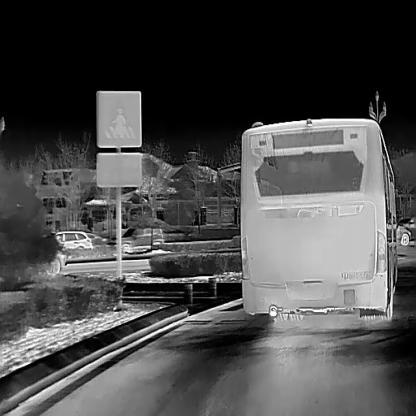car: (239, 115, 398, 322), (116, 223, 164, 252), (42, 228, 93, 255), (393, 221, 411, 245)
